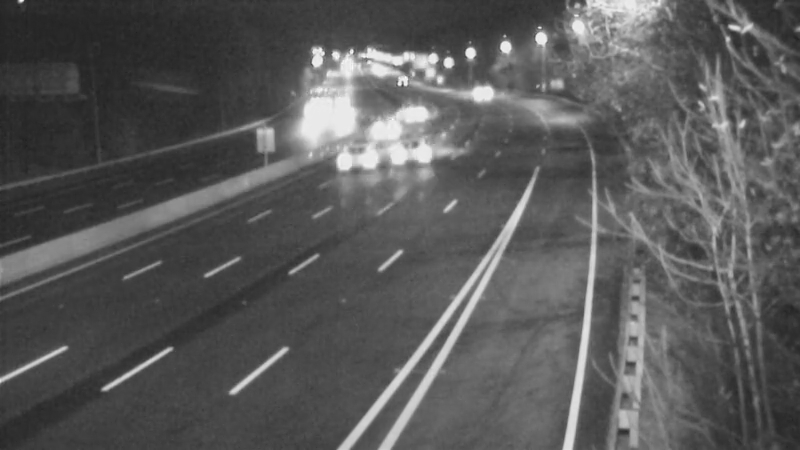vehicle: (367, 113, 447, 193), (318, 112, 398, 192), (373, 54, 423, 104), (449, 64, 499, 114), (391, 89, 441, 139), (360, 104, 410, 154), (293, 86, 343, 136)
